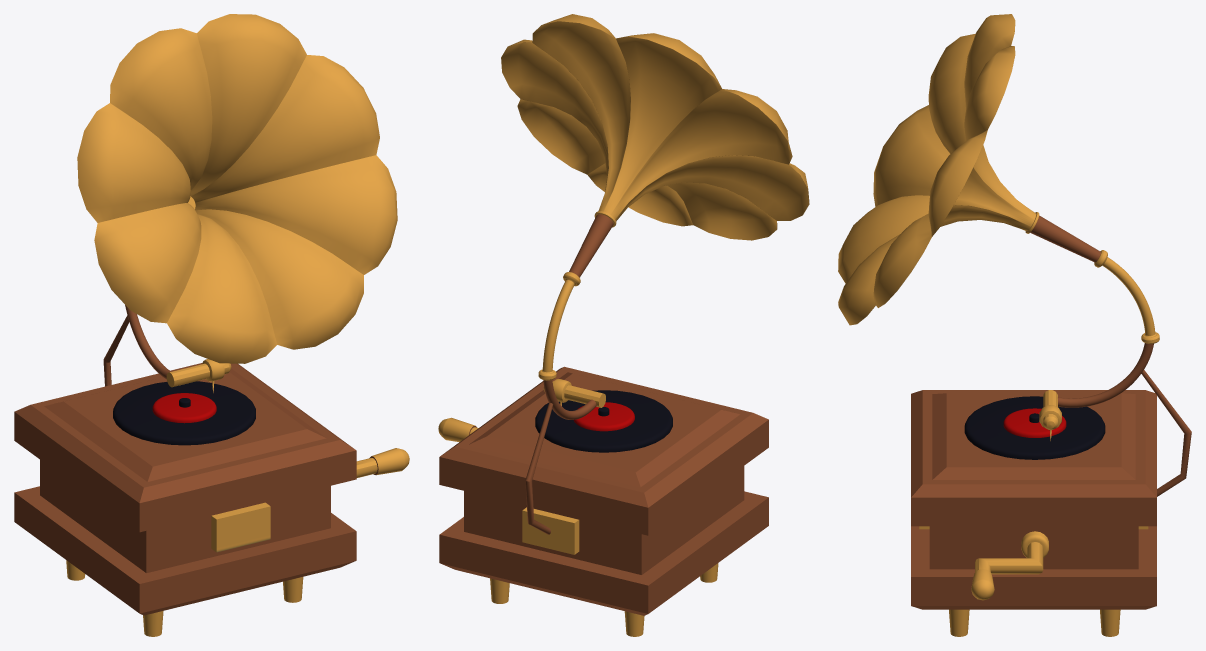
File: F_Gramophone.fbx
The picture shows the model from 3 angles, left to right: view 1: azimuth 30°, elevation 25°; view 2: azimuth 150°, elevation 25°; view 3: azimuth 270°, elevation 25°; orthographic projection. The views are drawn at different scales.
Visible parts, largest first — view 1: F_Gramophone_01; view 2: F_Gramophone_01; view 3: F_Gramophone_01.
Part boxes in pixels (bbox=[...]): F_Gramophone_01: bbox=[14, 14, 409, 636]; F_Gramophone_01: bbox=[438, 14, 809, 636]; F_Gramophone_01: bbox=[838, 14, 1191, 636].
Bounding box in the file's own units: 102 × 161 × 91.63.
Materials: 1 (1 with a texture image).
